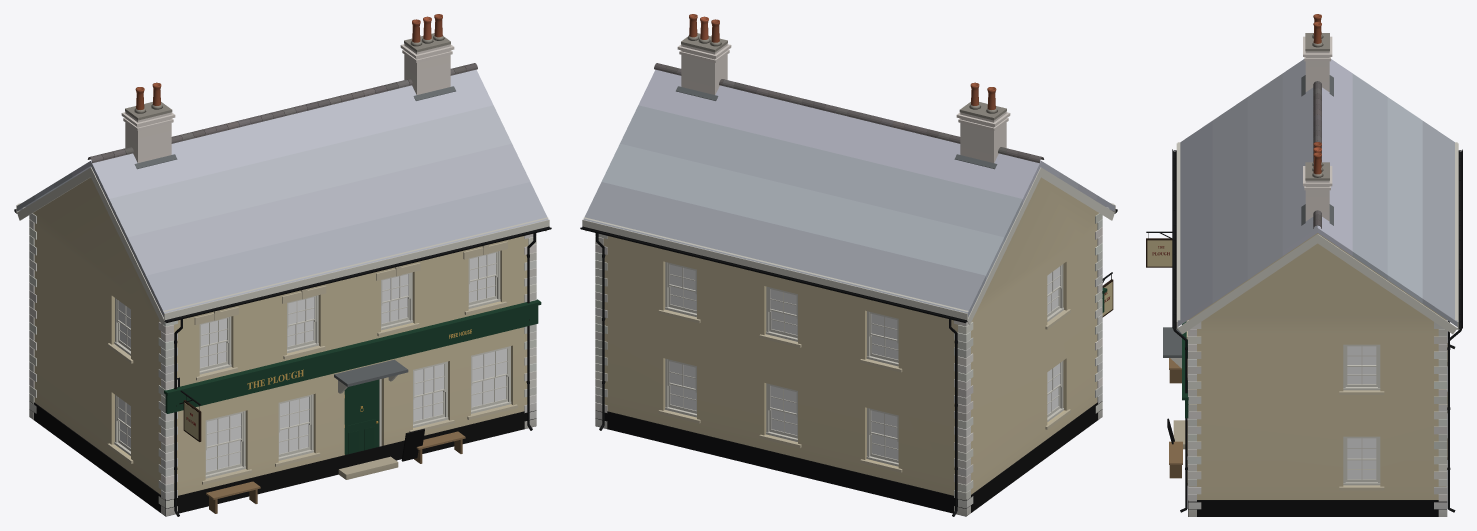
Rendered from town_pub_a.glb.
3 renders of one model, left to right at view 1: azimuth 30°, elevation 25°; view 2: azimuth 150°, elevation 25°; view 3: azimuth 270°, elevation 25°, orthographic. The views are drawn at different scales.
Visible parts, largest first — view 1: body; view 2: body; view 3: body.
Boxes of the visible parts, x1=… form: body: x1=14, y1=14, x2=551, y2=516; body: x1=580, y1=14, x2=1117, y2=516; body: x1=1146, y1=14, x2=1462, y2=516.
Size of what is drawn, in the model's own units: 11.47 by 10.45 by 8.6.
